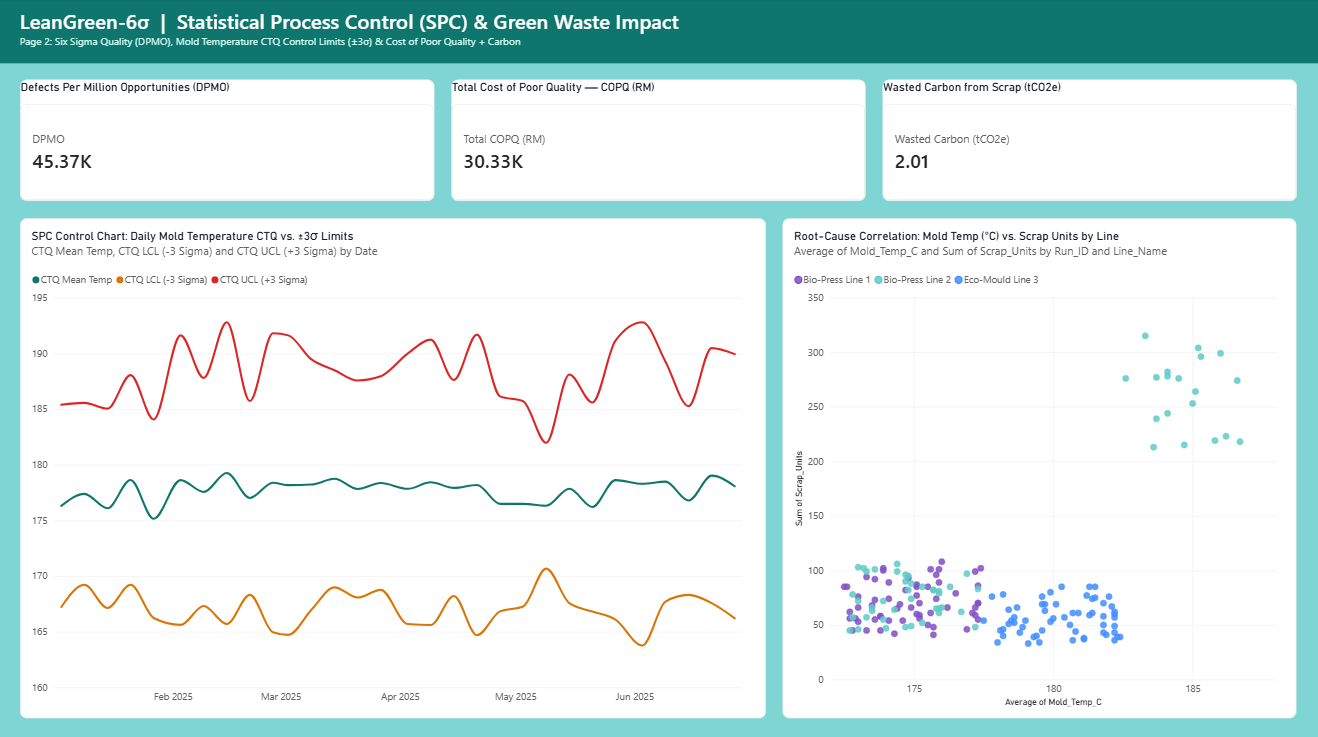

The dashboard page shown, as its layout file describes it:
{"tool":"powerbi","page":{"name":"2 · SPC & Green Waste","canvas":[1920,1080],"ordinal":1},"visuals":[{"type":"cardVisual","title":"Defects Per Million Opportunities (DPMO)","fields":{"Data":["_Measures.DPMO"]},"box":[36,120,600,176],"z":21},{"type":"cardVisual","title":"Total Cost of Poor Quality — COPQ (RM)","fields":{"Data":["_Measures.Total COPQ (RM)"]},"box":[660,120,600,176],"z":22},{"type":"cardVisual","title":"Wasted Carbon from Scrap (tCO2e)","fields":{"Data":["_Measures.Wasted Carbon (tCO2e)"]},"box":[1284,120,600,176],"z":23},{"type":"lineChart","title":"SPC Control Chart: Daily Mold Temperature CTQ vs. ±3σ Limits","fields":{"Category":["Dim_Date.Date"],"Y":["_Measures.CTQ Mean Temp","_Measures.CTQ LCL (-3 Sigma)","_Measures.CTQ UCL (+3 Sigma)"]},"box":[36,320,1080,724],"z":30},{"type":"scatterChart","title":"Root-Cause Correlation: Mold Temp (°C) vs. Scrap Units by Line","fields":{"Category":["Fact_Production.Run_ID"],"X":["Avg(Fact_Production.Mold_Temp_C)"],"Y":["Sum(Fact_Production.Scrap_Units)"],"Series":["tbl_Line.Line_Name"]},"box":[1140,320,744,724],"z":31},{"type":"textbox","box":[0,0,1920,96],"z":100}]}

Visuals, with their boxes in screenshot pixels (x1, y1, x2, y2), scaled from the page's 1920x1080 canvas onto the 1318x737 screenshot:
"Defects Per Million Opportunities (DPMO)" cardVisual: l=25, t=82, r=437, b=202
"Total Cost of Poor Quality — COPQ (RM)" cardVisual: l=453, t=82, r=865, b=202
"Wasted Carbon from Scrap (tCO2e)" cardVisual: l=881, t=82, r=1293, b=202
"SPC Control Chart: Daily Mold Temperature CTQ vs. ±3σ Limits" lineChart: l=25, t=218, r=766, b=712
"Root-Cause Correlation: Mold Temp (°C) vs. Scrap Units by Line" scatterChart: l=783, t=218, r=1293, b=712
textbox: l=0, t=0, r=1317, b=66
